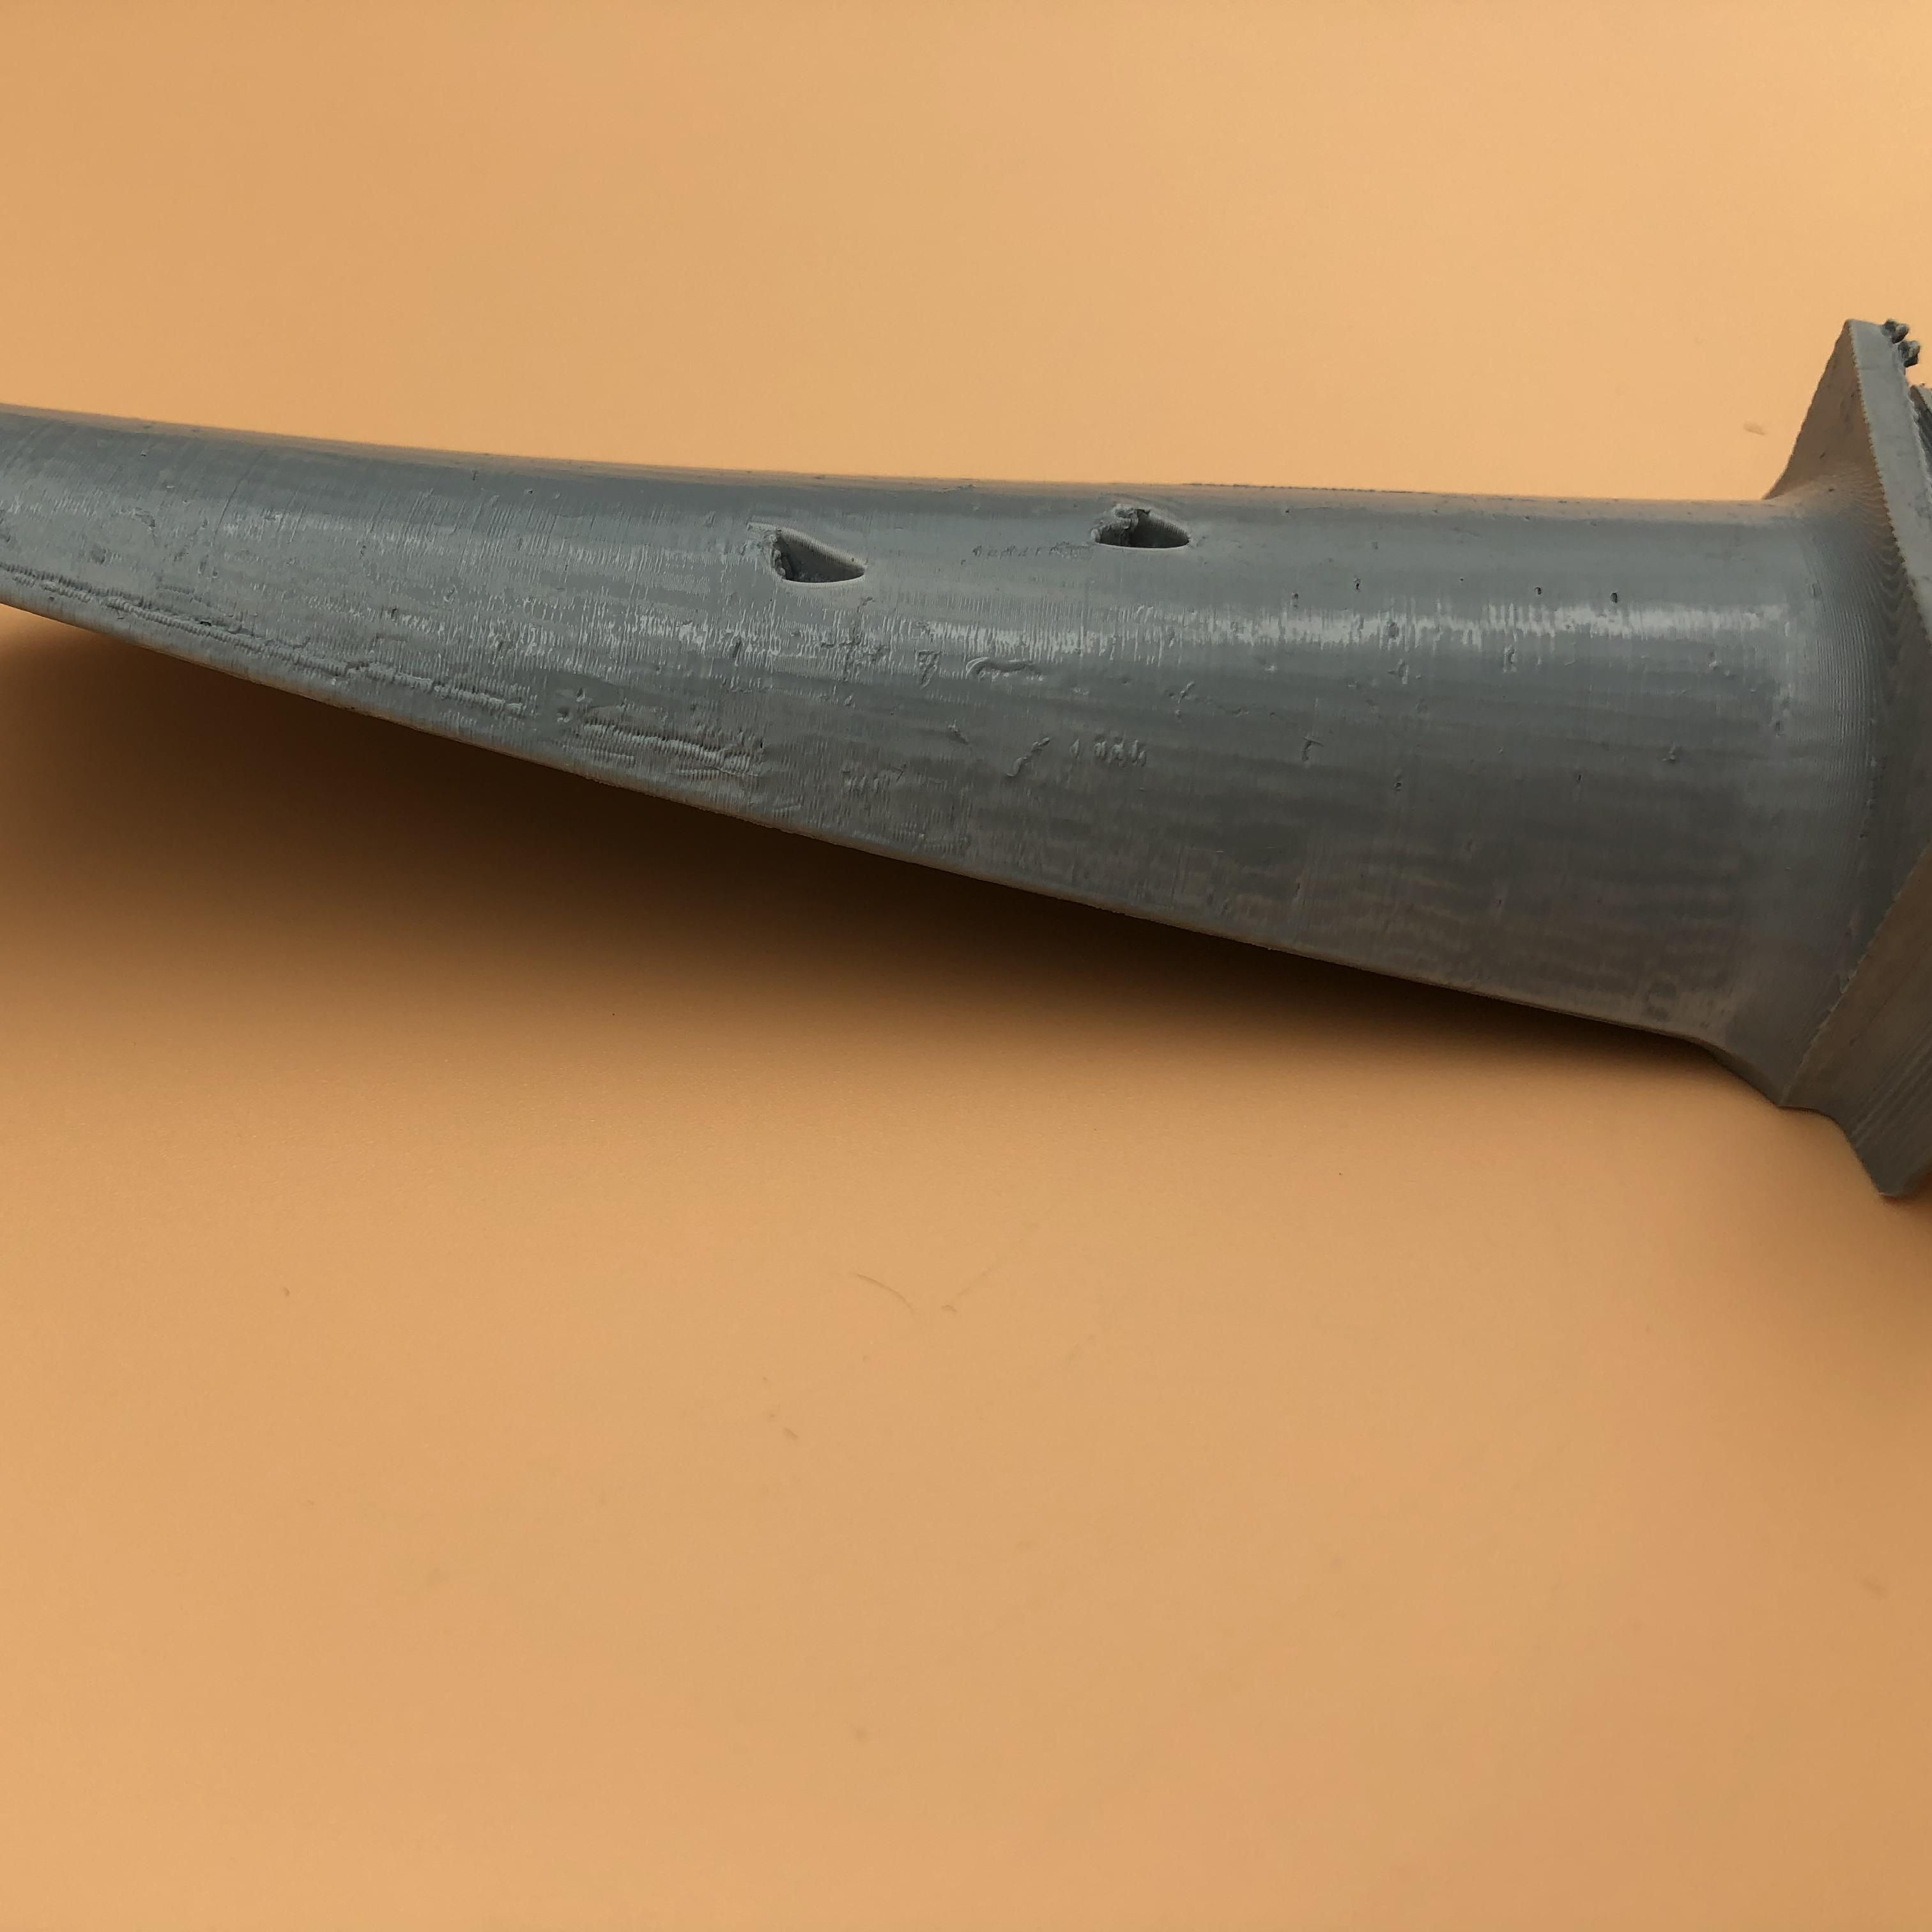breakdown: (750, 504, 895, 605), (1086, 499, 1251, 568)
